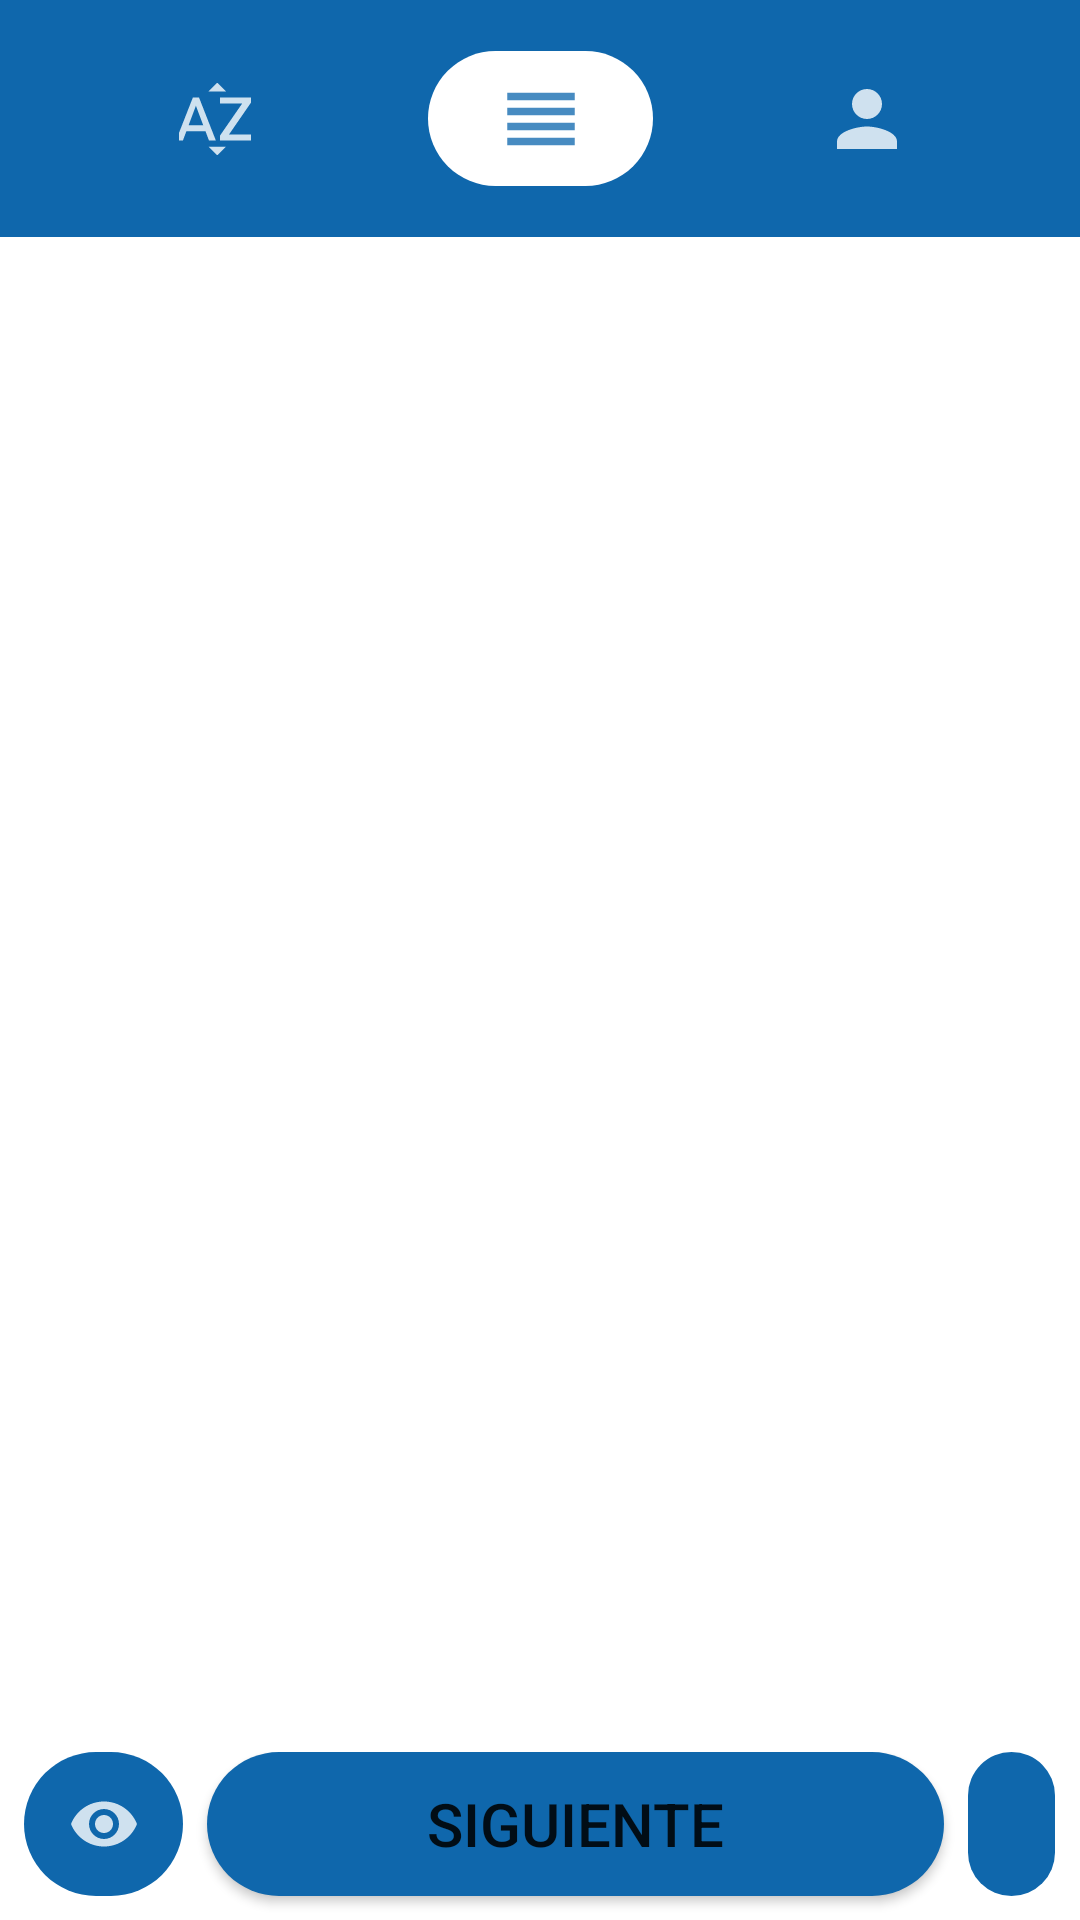

Screen size 1080px x 1920px. Icon name, then its center in pixels as [x,y]:
aphabet: [215,119]
category: [540,118]
personal: [867,119]
view: [103,1824]
